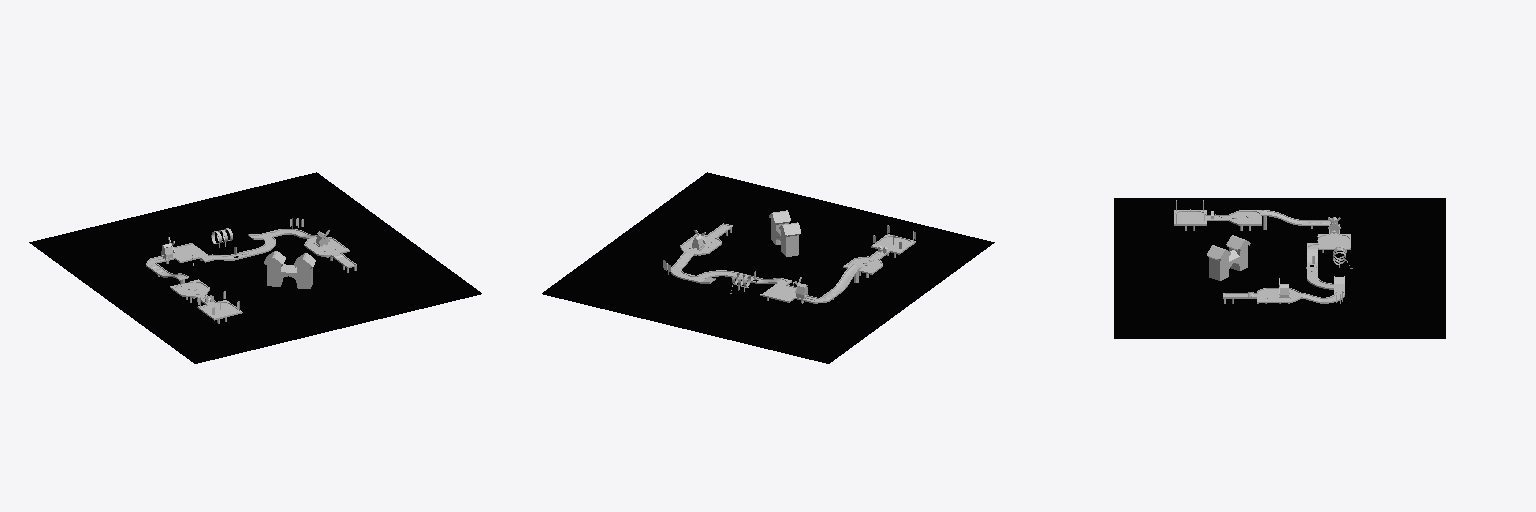
Rendered from golf_course.obj.
3 renders of one model, left to right at view 1: azimuth 30°, elevation 25°; view 2: azimuth 150°, elevation 25°; view 3: azimuth 270°, elevation 25°, orthographic.
Parts seen in each view (by area): view 1: Plane, structure-gate-building; view 2: Plane, structure-gate-building; view 3: Plane, structure-gate-building.
Boxes of the visible parts, x1=… form: Plane: x1=29, y1=172, x2=481, y2=363; structure-gate-building: x1=264, y1=251, x2=315, y2=288; Plane: x1=542, y1=172, x2=994, y2=363; structure-gate-building: x1=769, y1=210, x2=800, y2=256; Plane: x1=1114, y1=198, x2=1445, y2=338; structure-gate-building: x1=1207, y1=235, x2=1250, y2=280.
Bounding box in the file's own units: 30 × 3.44 × 30.